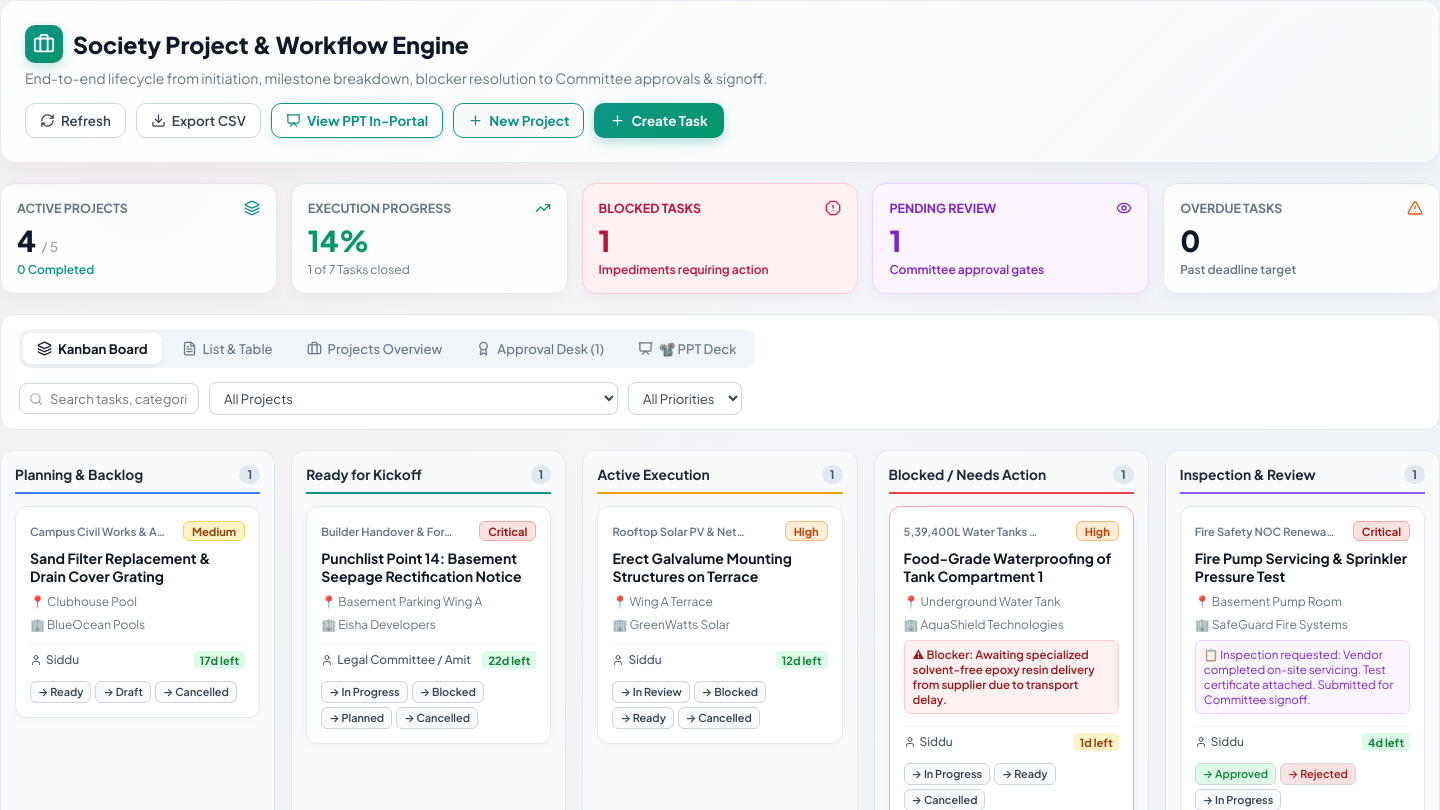
Test: WorkflowManager Component › opens task detail drawer when clicking a task card
The image size is (1440, 810).
Click the text "Erect Galvalume Mounting Structures on Terrace" at (702, 567), box top-left (612, 549), bottom-right (792, 585)
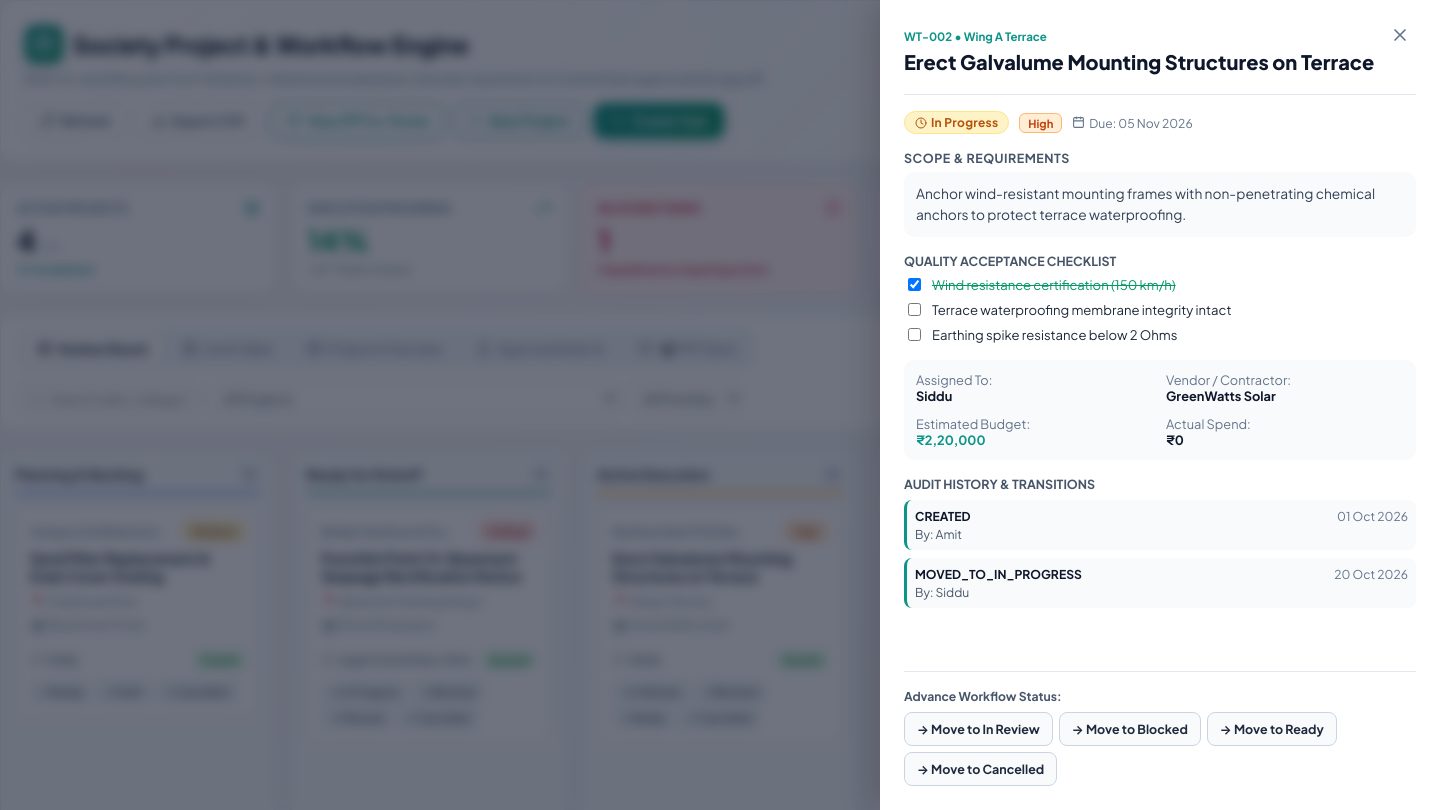
expect the heading "Quality Acceptance Checklist" is shown: met, box top-left (904, 253), bottom-right (1116, 269)
expect the heading "Audit History & Transitions" is shown: met, box top-left (904, 476), bottom-right (1095, 492)
